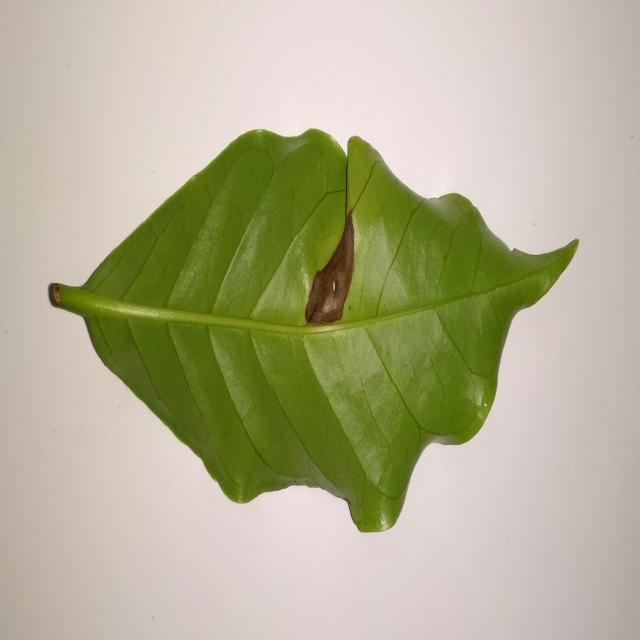Enfermedad-Antracnosis: (46, 128, 580, 536)
